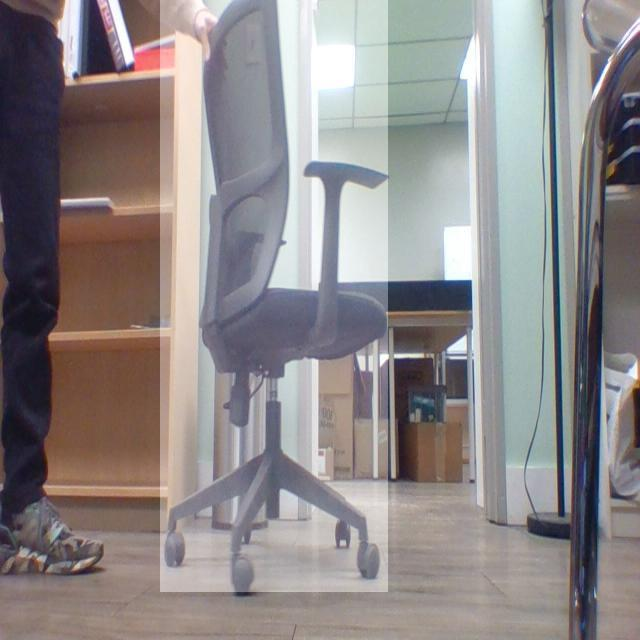chair: (156, 0, 385, 592)
